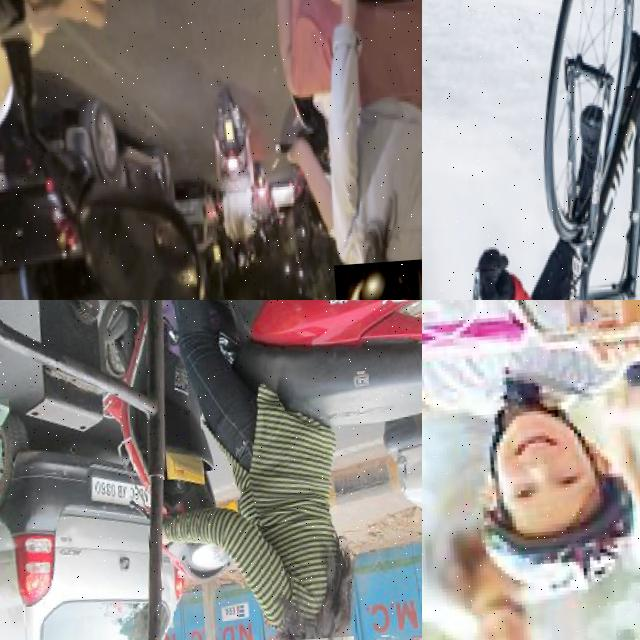helmet: (459, 486, 640, 606), (332, 258, 422, 300)
